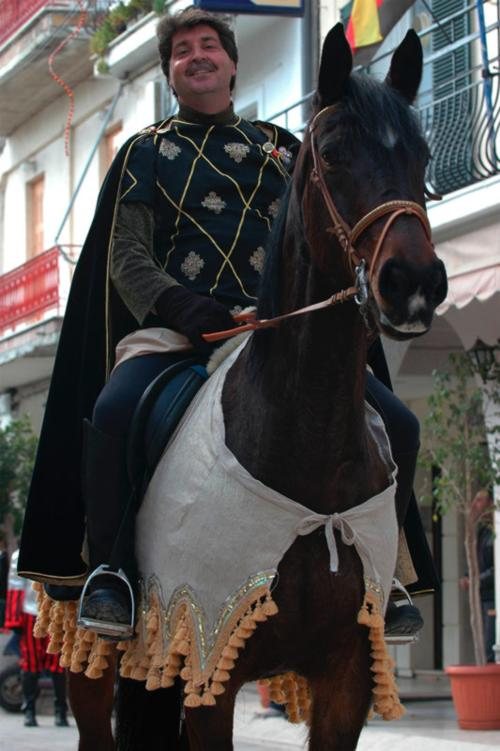person: (20, 12, 426, 640)
